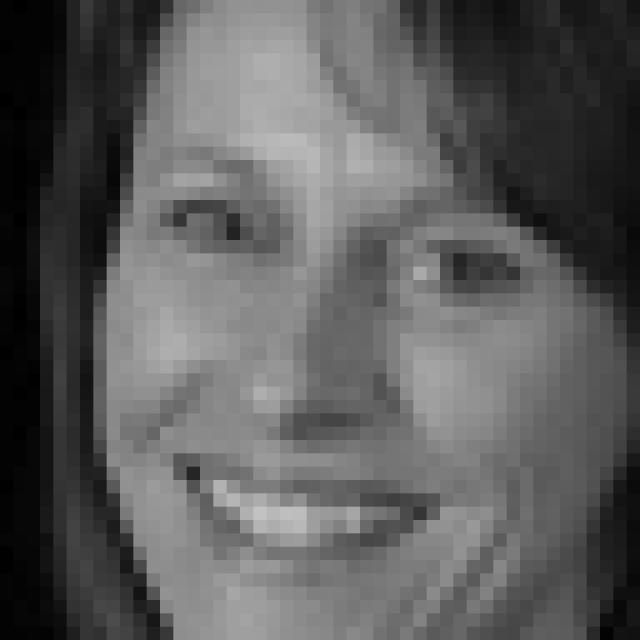happy: (137, 134, 541, 590)
